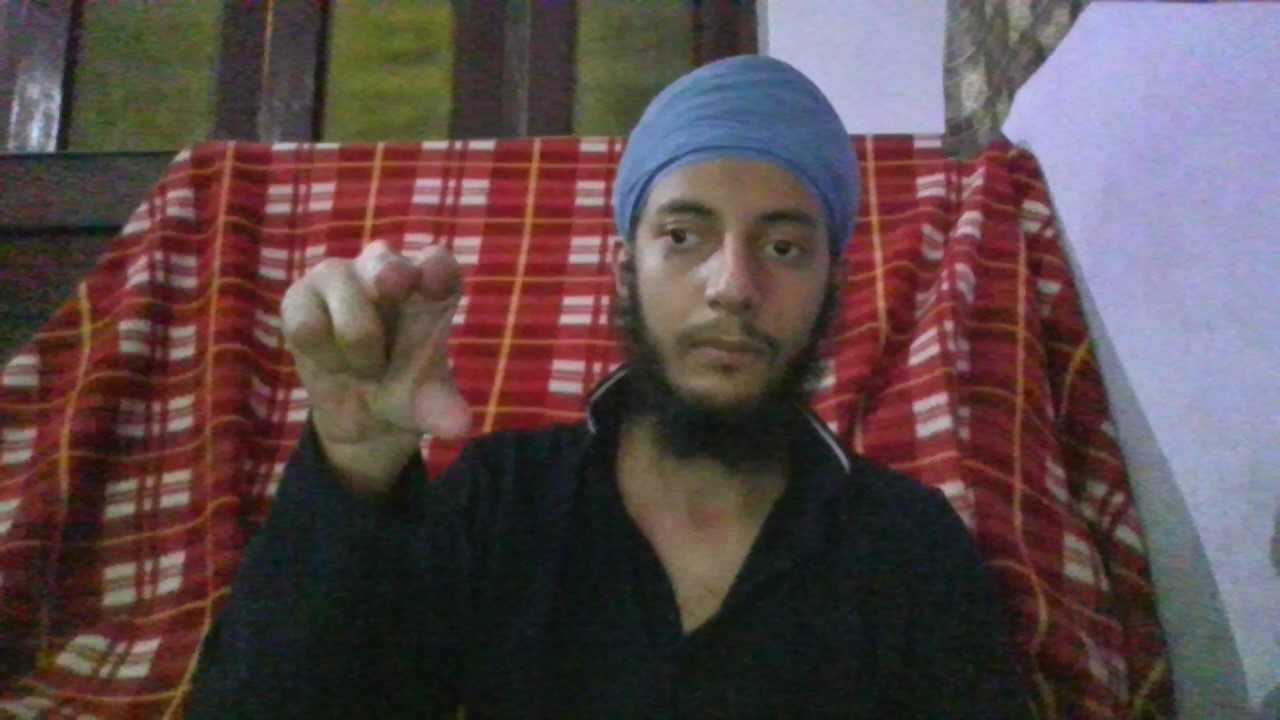No: (277, 239, 475, 442)
